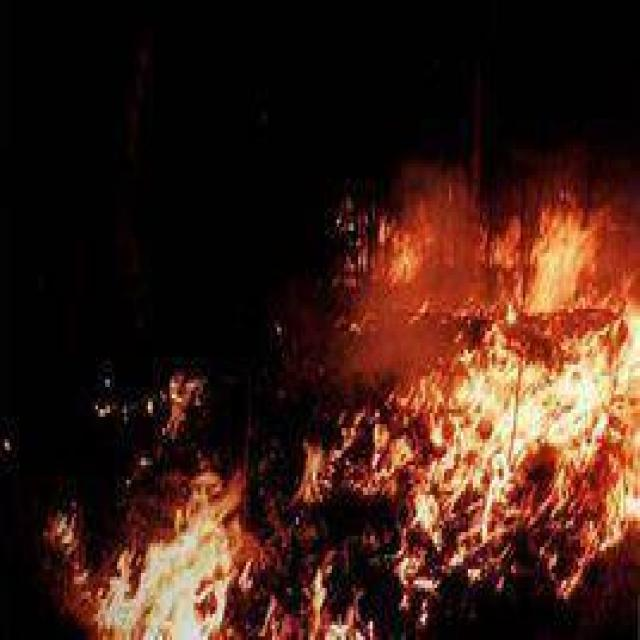fire: (326, 157, 635, 625), (25, 394, 321, 632)
